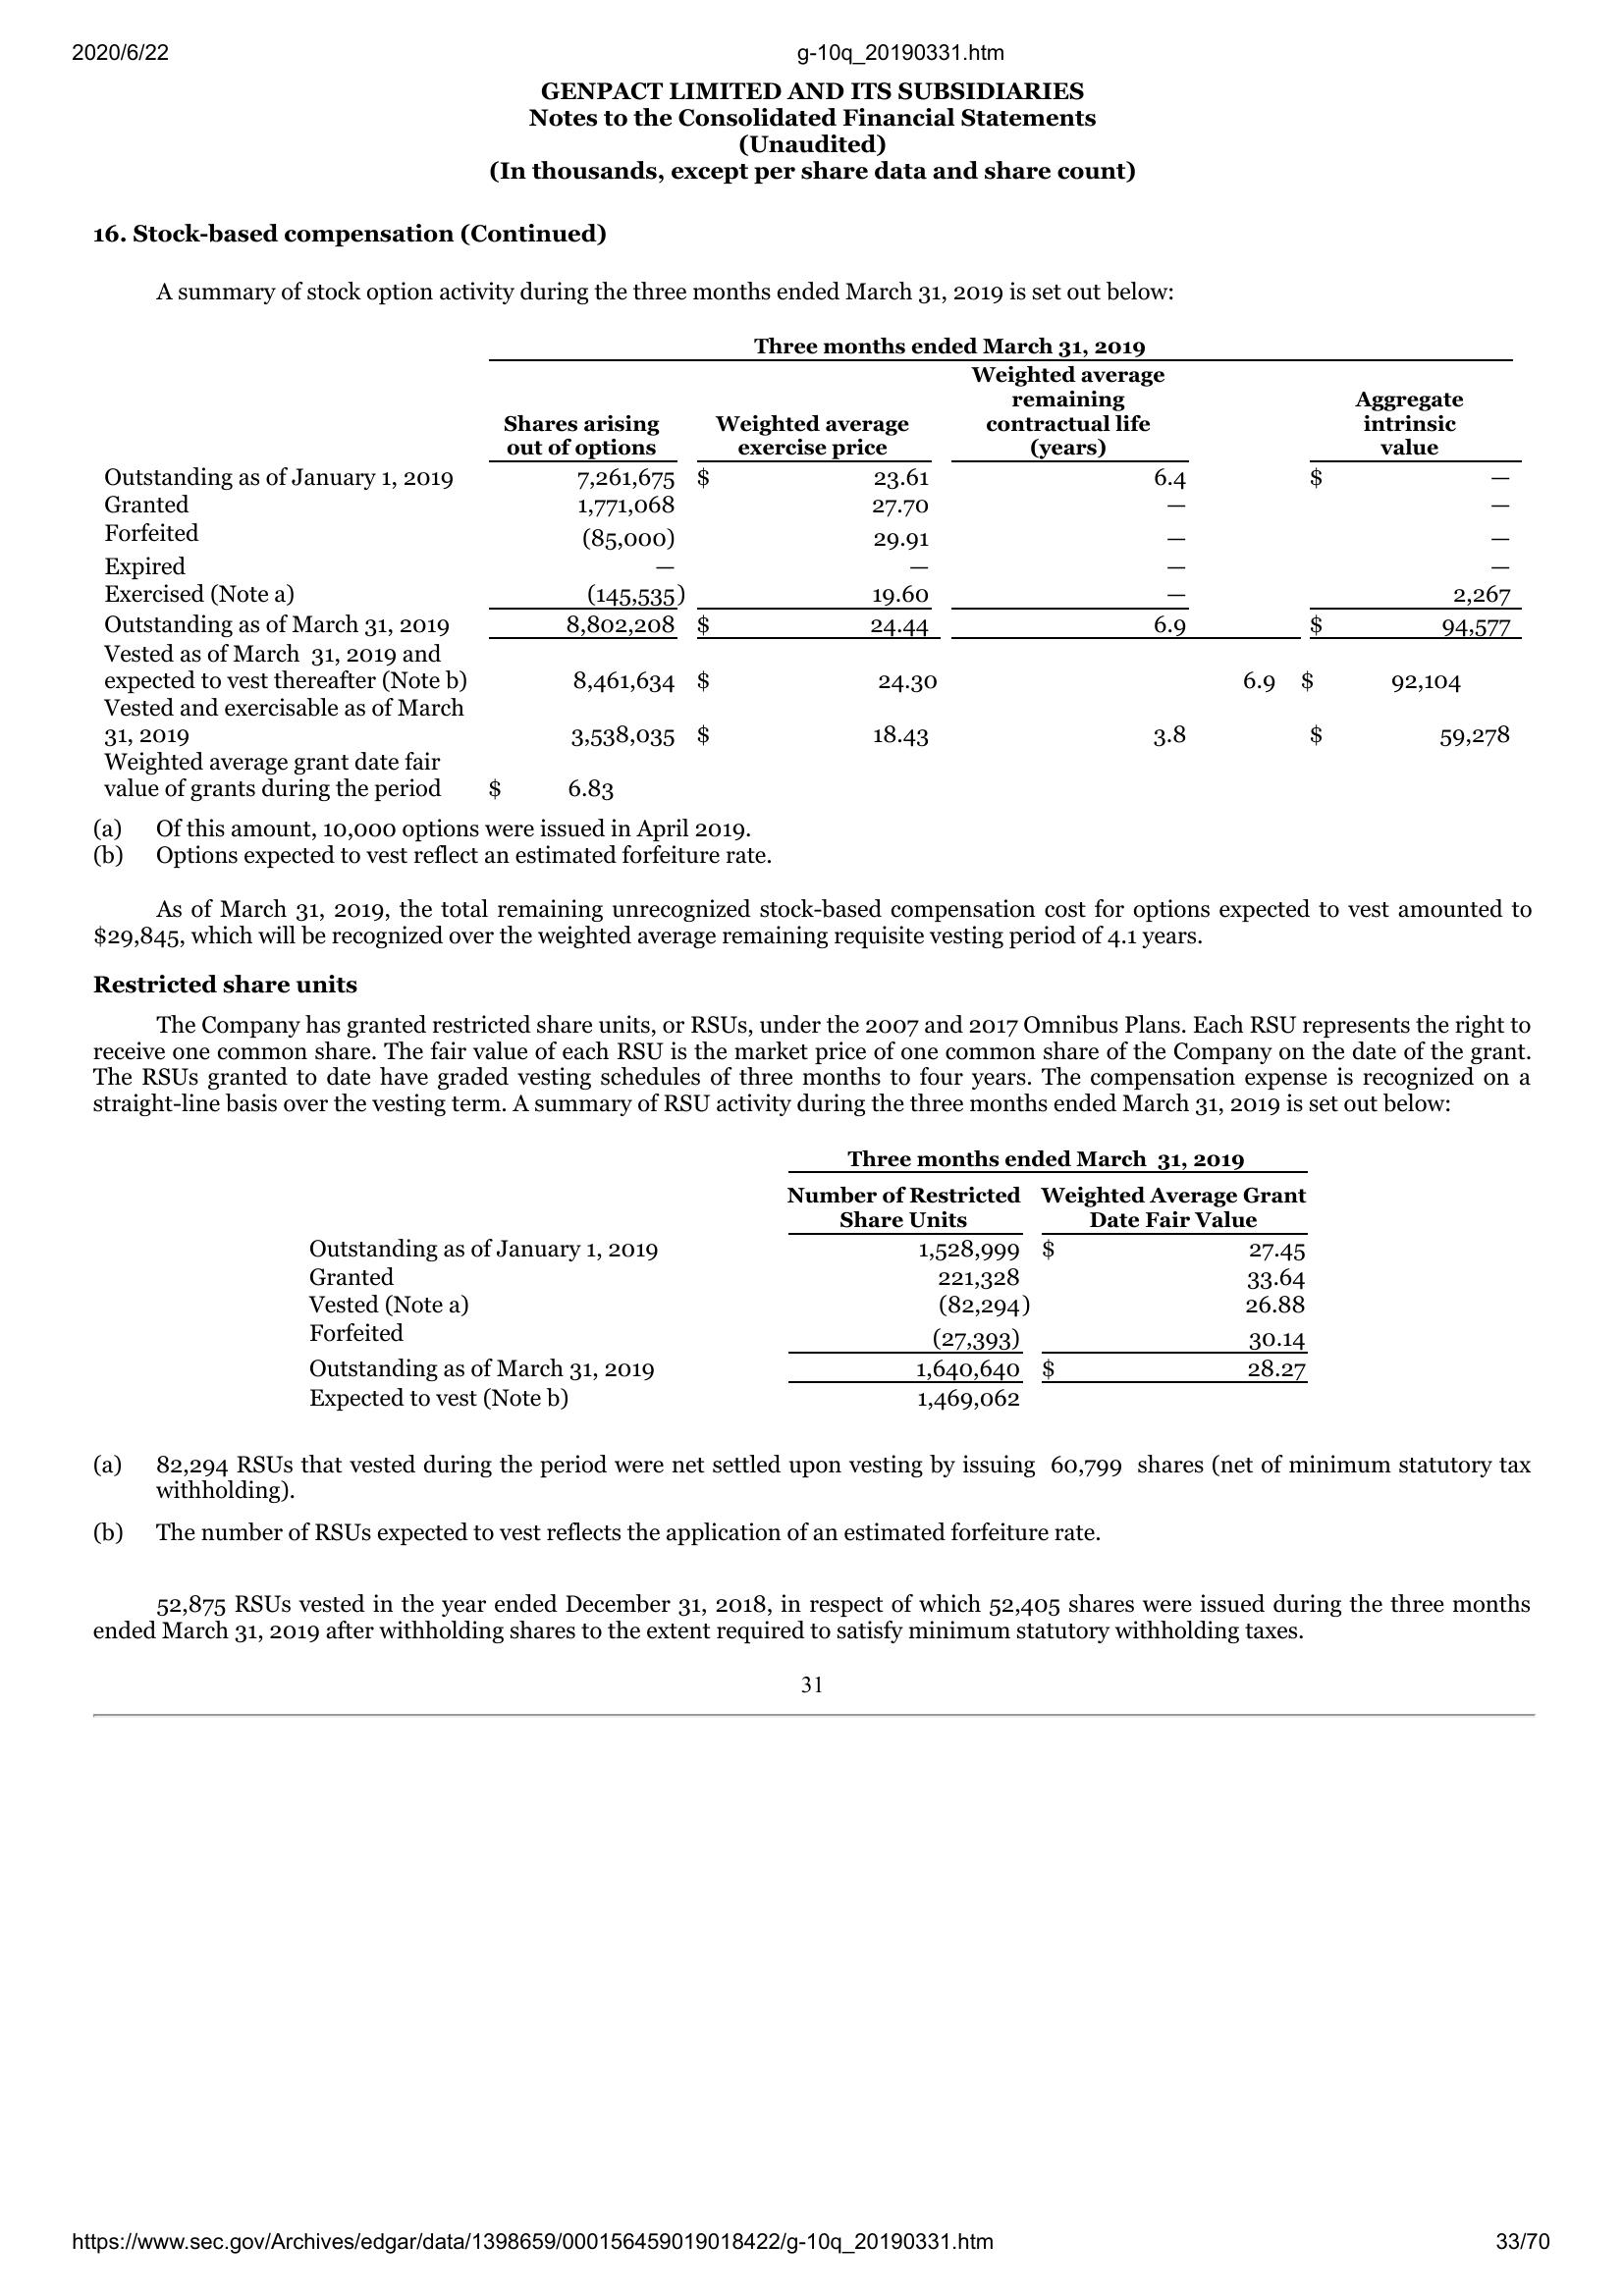table: (95, 328, 1539, 809), (297, 1144, 1317, 1413)
